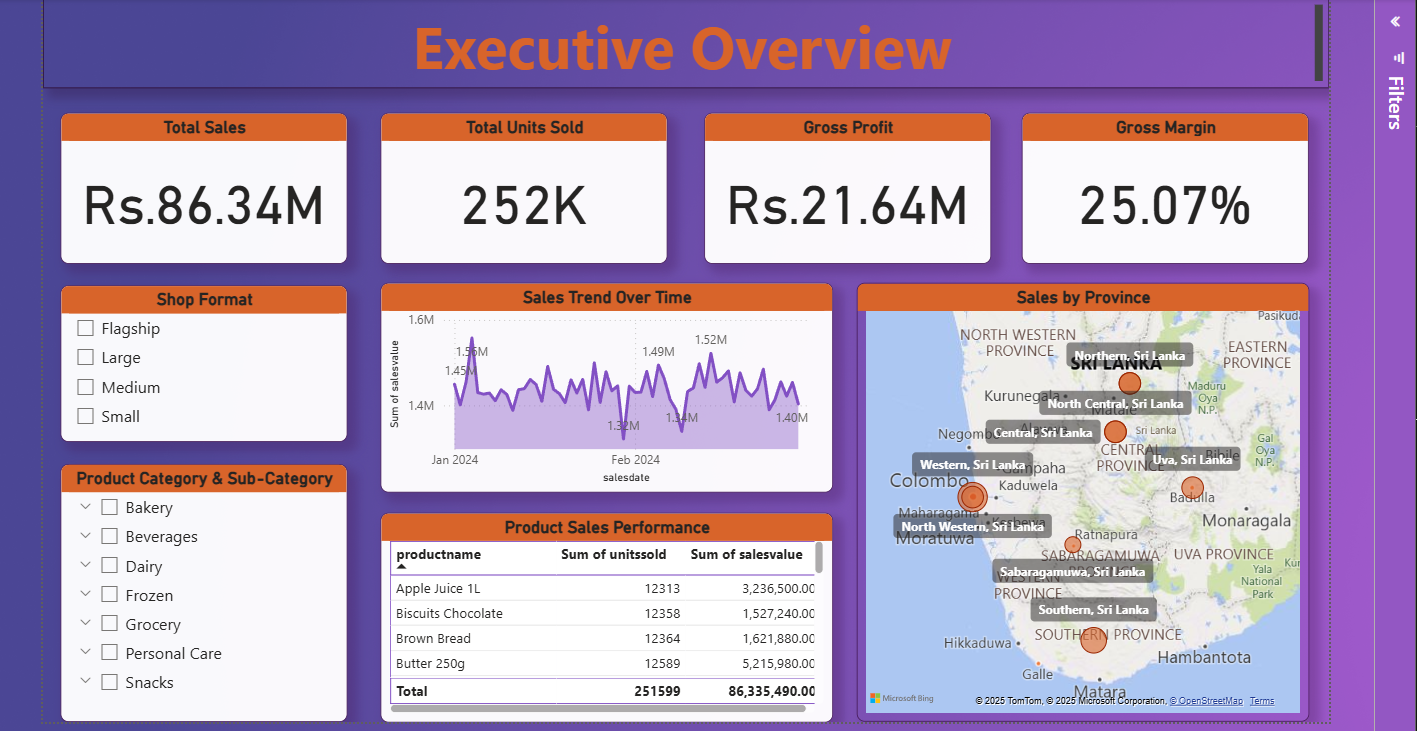

This screenshot's page, from the dashboard's own definition file:
{"tool":"powerbi","page":{"name":"excecutive_dashboard","canvas":[1280,720],"ordinal":0},"visuals":[{"type":"textbox","box":[0,0,1280,88.6],"z":0},{"type":"card","title":"Total Sales","fields":{"Values":["measures_table.total_sales"]},"box":[17.1,112.9,285.7,150],"z":1000},{"type":"card","title":"Total Units Sold","fields":{"Values":["measures_table.total_unit_sold"]},"box":[335.7,112.9,285.7,150],"z":2000},{"type":"card","title":"Gross Profit","fields":{"Values":["measures_table.gross_profit"]},"box":[658.6,112.9,285.7,150],"z":3000},{"type":"card","title":"Gross Margin","fields":{"Values":["measures_table.gross_margin%"]},"box":[974.3,112.9,285.7,150],"z":4000},{"type":"lineChart","title":"Sales Trend Over Time","fields":{"Category":["public sales.salesdate"],"Y":["Sum(public sales.salesvalue)"]},"box":[335.7,282.9,450,208.6],"z":5000},{"type":"map","title":"Sales by Province","fields":{"Size":["Sum(public sales.salesvalue)"],"Category":["public stores.RegionFullName"]},"box":[810,282.9,450,437.1],"z":6000},{"type":"tableEx","title":"Product Sales Performance","fields":{"Values":["public products.productname","Sum(public sales.unitssold)","Sum(public sales.salesvalue)"]},"box":[335.7,511.4,450,208.6],"z":7000},{"type":"slicer","title":"Product Category & Sub-Category","fields":{"Values":["public products.category","public products.subcategory"]},"box":[17.1,462.9,285.7,257.1],"z":8000},{"type":"slicer","title":"Shop Format","fields":{"Values":["public stores.storeformat"]},"box":[17.1,284.3,285.7,155.7],"z":9000}]}

Visuals, with their boxes on the page's 1280x720 design canvas (x1, y1, x2, y2). These are canvas units, not pixel positions in the 1417x731 screenshot, which may show the page scaled, cropped or inside an application window:
textbox: {"left": 0, "top": 0, "right": 1280, "bottom": 89}
"Total Sales" card: {"left": 17, "top": 113, "right": 303, "bottom": 263}
"Total Units Sold" card: {"left": 336, "top": 113, "right": 621, "bottom": 263}
"Gross Profit" card: {"left": 659, "top": 113, "right": 944, "bottom": 263}
"Gross Margin" card: {"left": 974, "top": 113, "right": 1260, "bottom": 263}
"Sales Trend Over Time" lineChart: {"left": 336, "top": 283, "right": 786, "bottom": 492}
"Sales by Province" map: {"left": 810, "top": 283, "right": 1260, "bottom": 720}
"Product Sales Performance" tableEx: {"left": 336, "top": 511, "right": 786, "bottom": 720}
"Product Category & Sub-Category" slicer: {"left": 17, "top": 463, "right": 303, "bottom": 720}
"Shop Format" slicer: {"left": 17, "top": 284, "right": 303, "bottom": 440}
